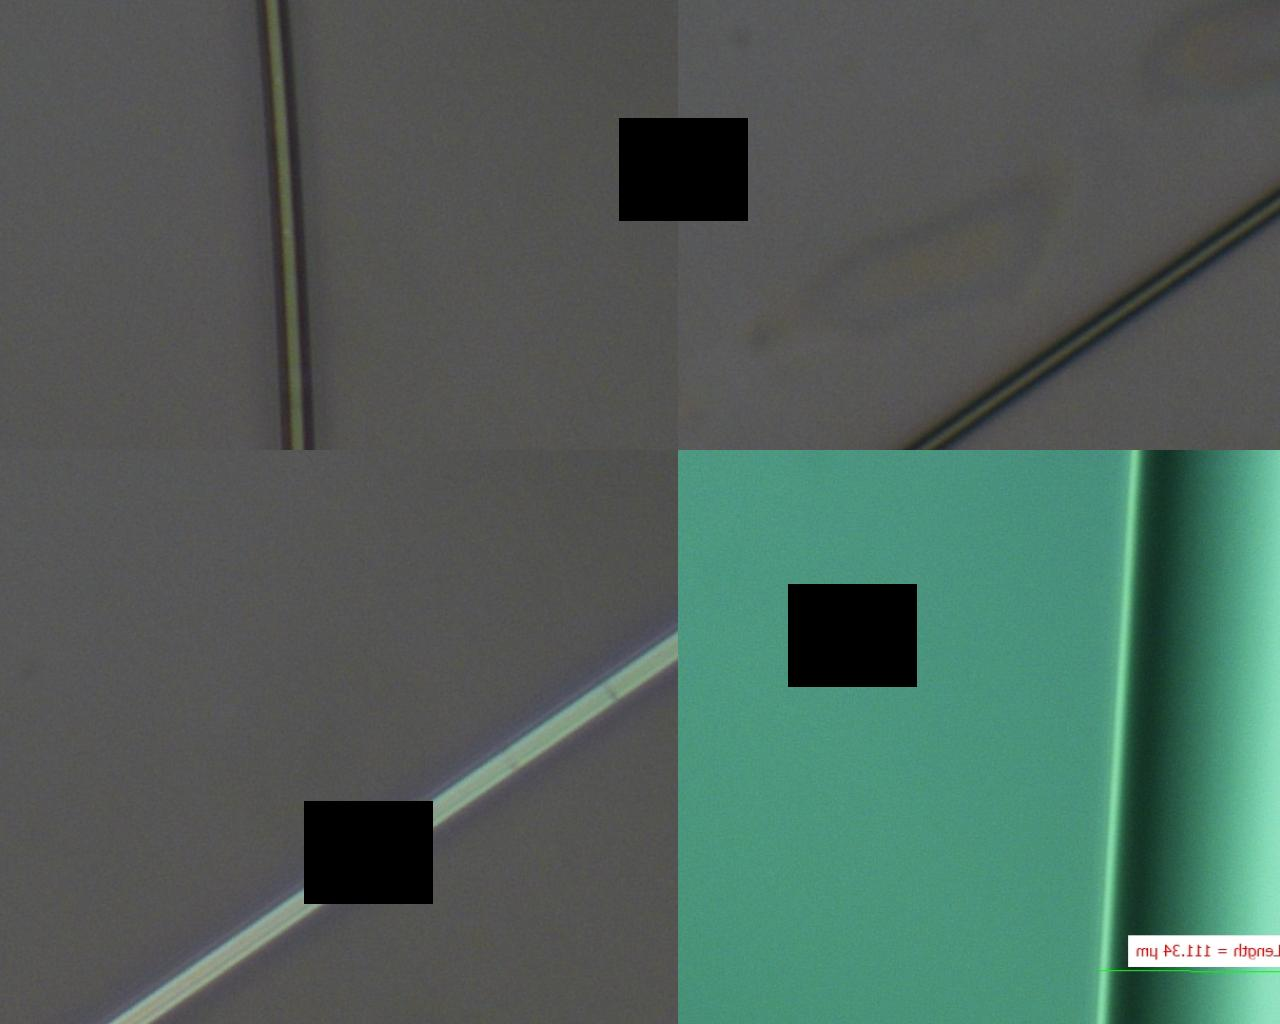fiber: (588, 192, 1280, 399), (1124, 399, 1280, 1024)
